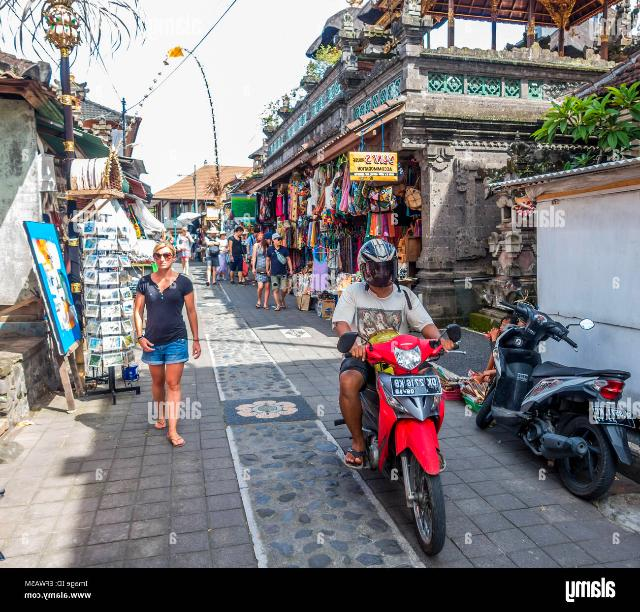helm: (358, 240, 400, 294)
motor: (477, 297, 634, 503), (333, 326, 470, 558)
